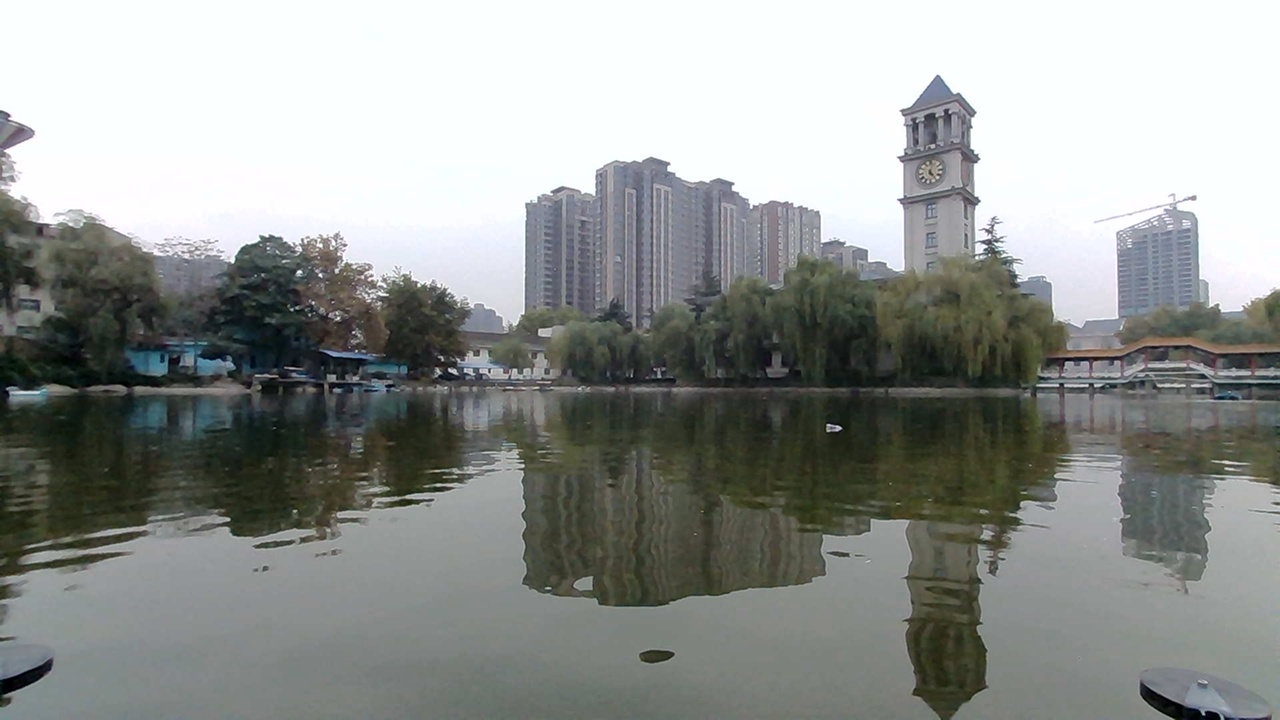bottle: (821, 409, 860, 439)
